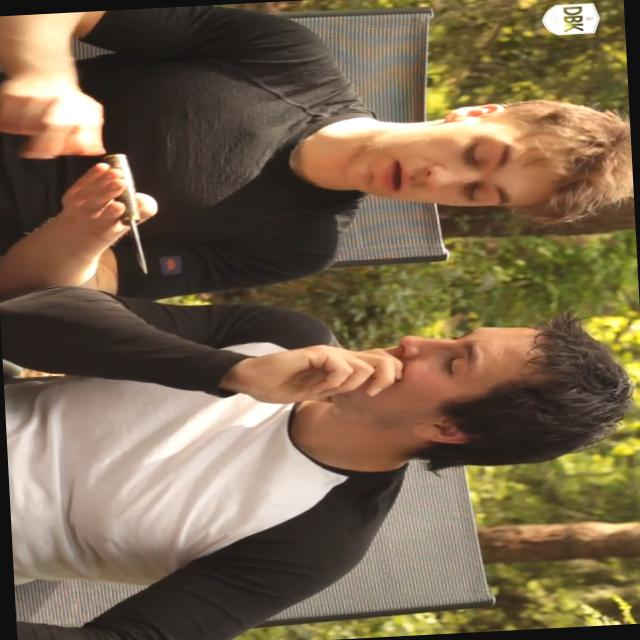knife: (80, 147, 167, 290)
